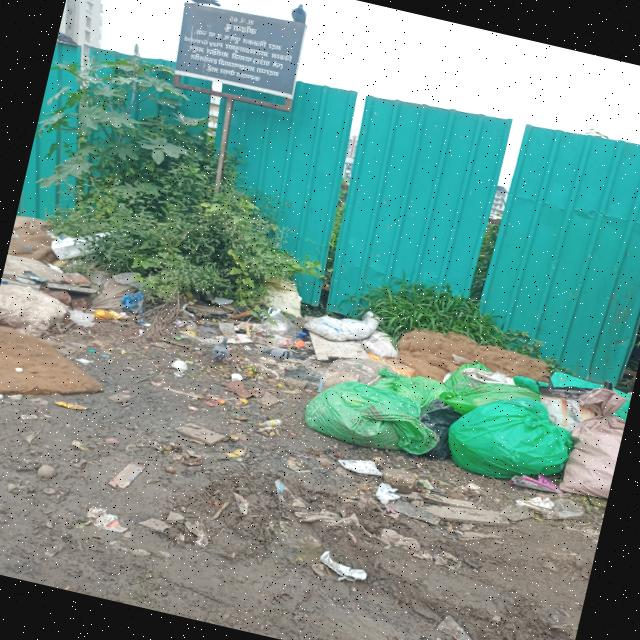garbage: (282, 293, 636, 502), (0, 202, 149, 408), (180, 256, 310, 380)
